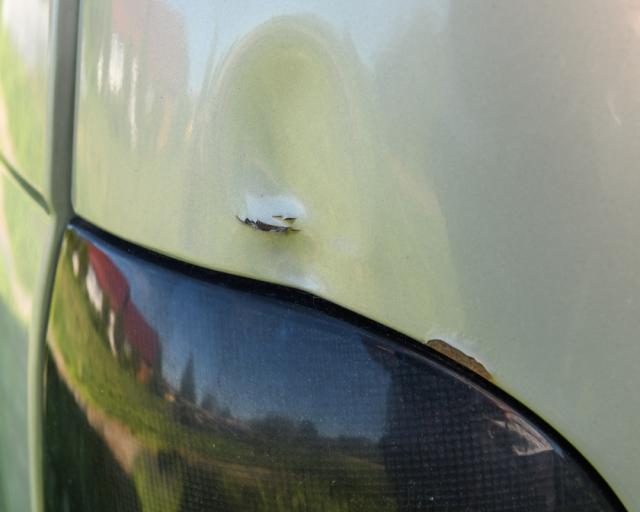dent: (186, 23, 373, 294)
scratch: (498, 405, 554, 463)
